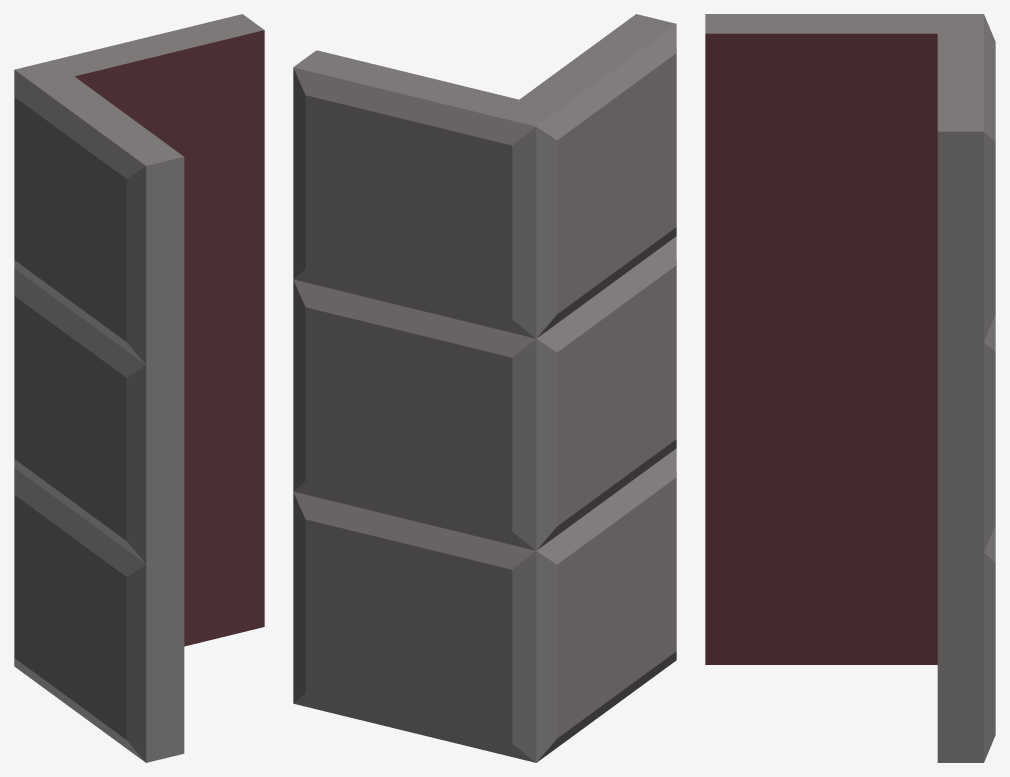
Rendered from scifi-wall-edge.fbx.
The picture shows the model from 3 angles, left to right: view 1: azimuth 30°, elevation 25°; view 2: azimuth 150°, elevation 25°; view 3: azimuth 270°, elevation 25°; orthographic projection. The views are drawn at different scales.
Visible parts, largest first — view 1: scifi-wall-edge; view 2: scifi-wall-edge; view 3: scifi-wall-edge.
Boxes of the visible parts, x1,y1,x2,y2 form: scifi-wall-edge: (14,14,264,762); scifi-wall-edge: (293,14,676,762); scifi-wall-edge: (705,14,995,762).
Size of the model in its own units: 1.25 by 3 by 1.25.
